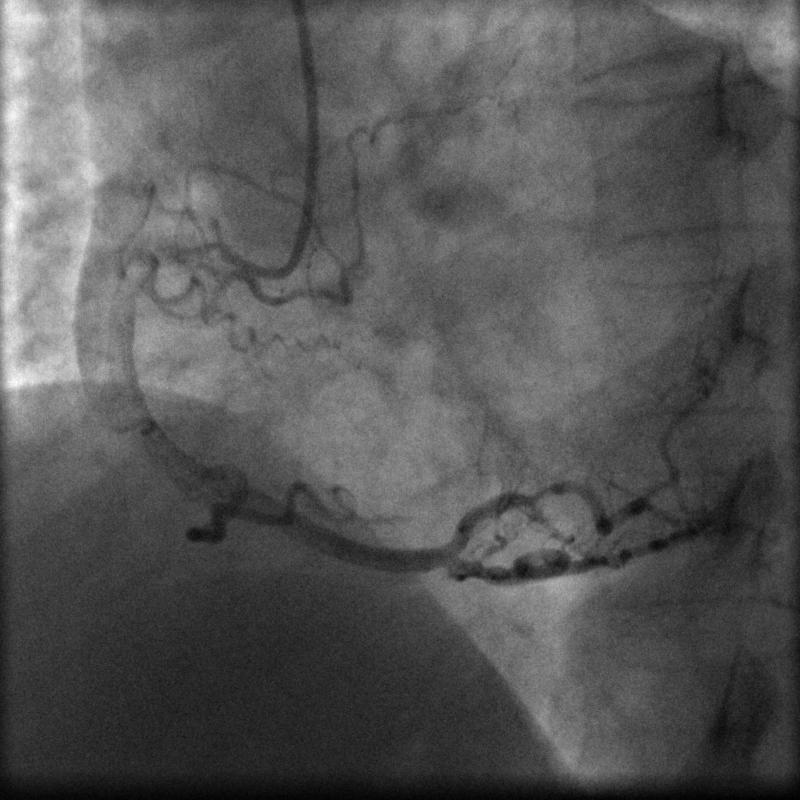Stenosis: (504, 477, 556, 505)
